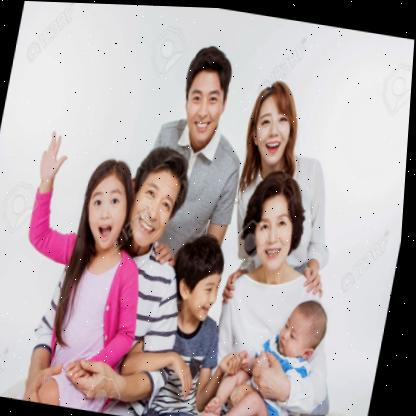person: (236, 173, 310, 282), (67, 155, 142, 258), (121, 148, 190, 257), (243, 81, 312, 178), (174, 40, 237, 144), (167, 234, 230, 338), (271, 292, 336, 361)
